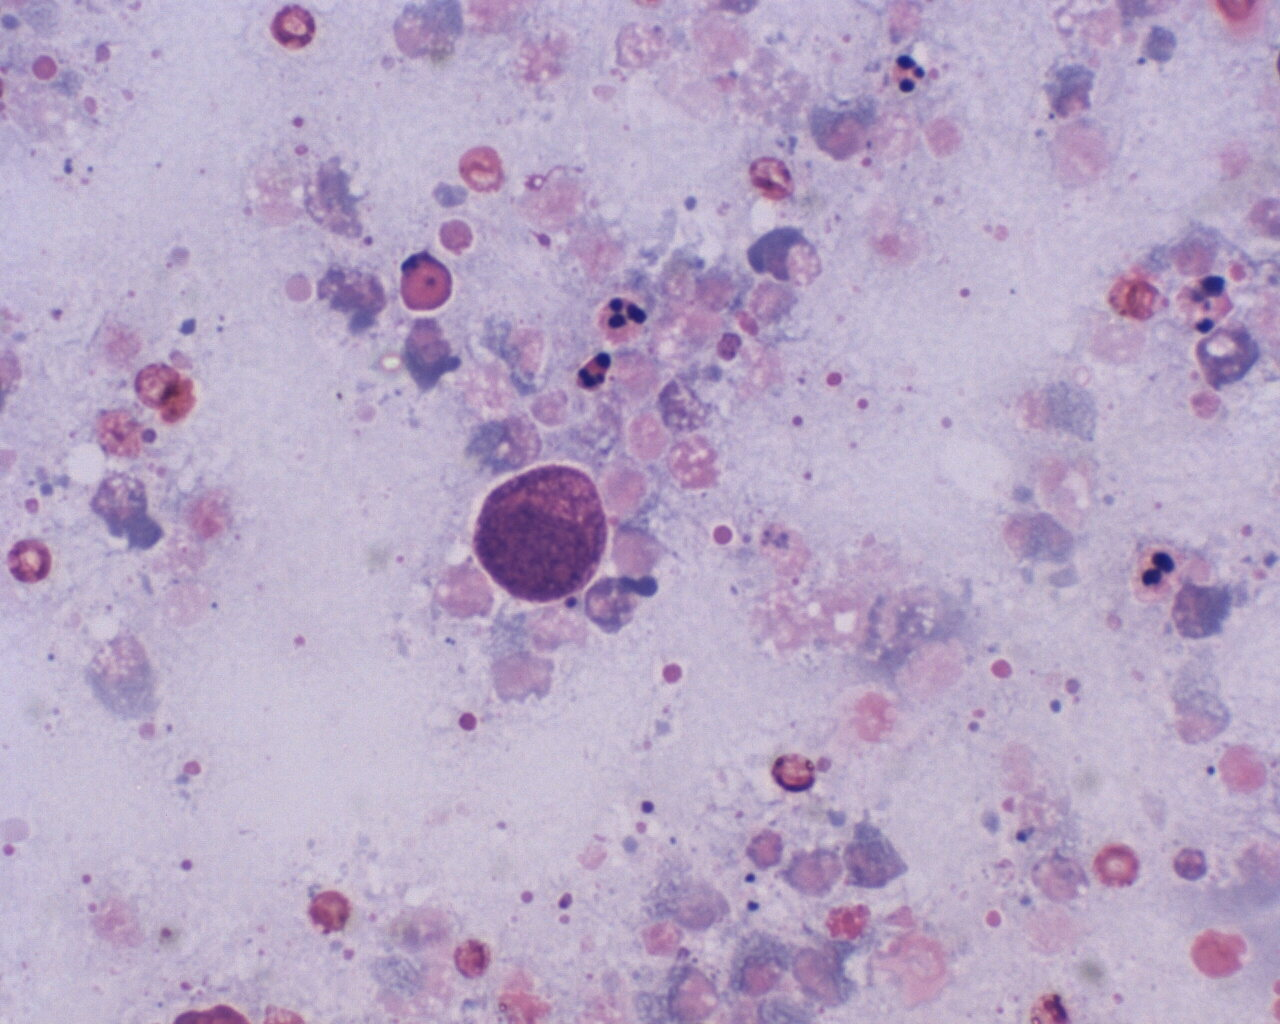ab: (468, 467, 607, 606)
neutro: (597, 289, 651, 345), (568, 343, 619, 394)
